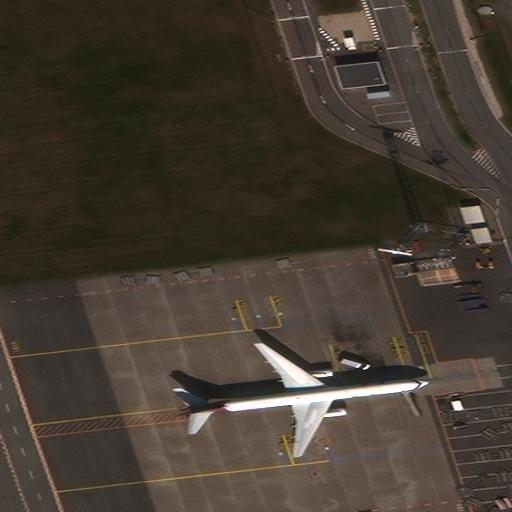Large Civil Transport: (173, 341, 431, 456)
